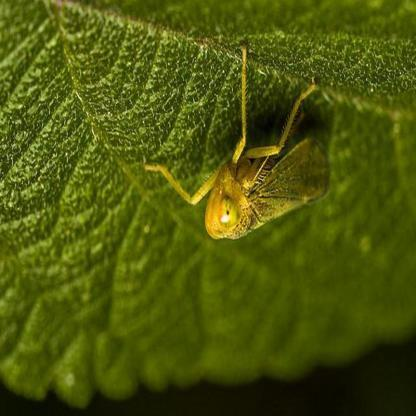green-leafhopper: (157, 58, 322, 250)
